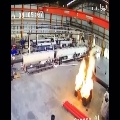fire: (75, 50, 95, 99)
